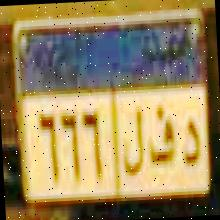6: (78, 98, 105, 186), (35, 106, 60, 184), (59, 106, 82, 184)
daal: (179, 115, 202, 175)
faa: (145, 96, 178, 182)
laam: (120, 104, 148, 186)
